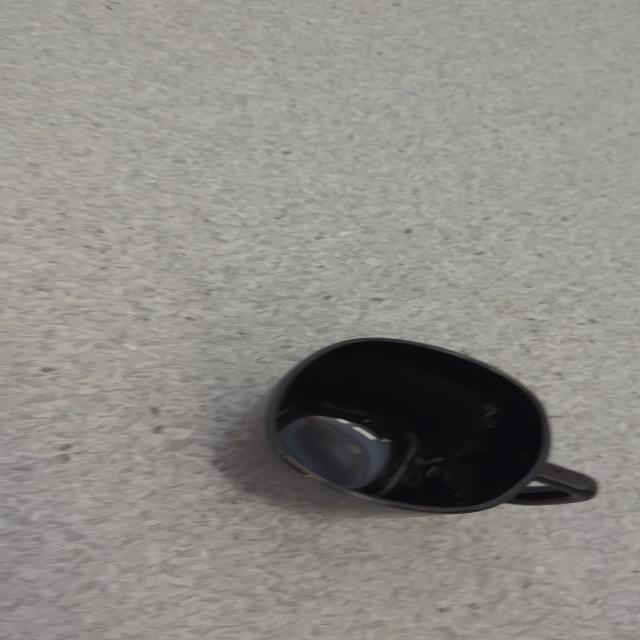mug: (262, 336, 598, 514)
